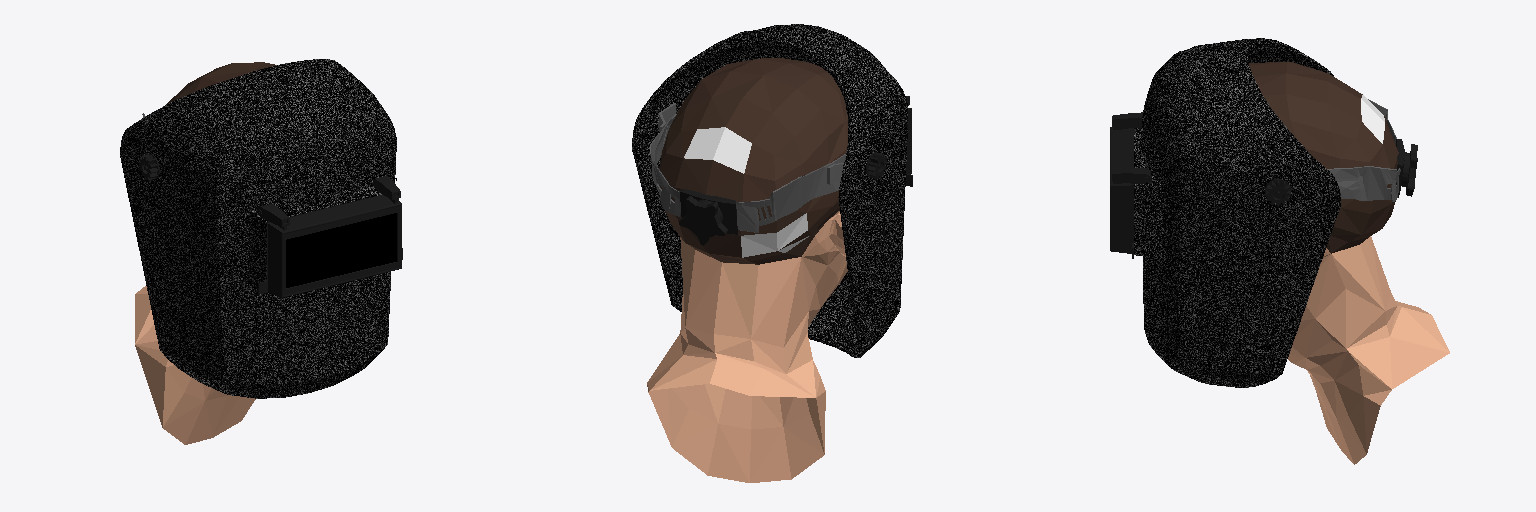
The picture shows the model from 3 angles: view 1: azimuth 30°, elevation 25°; view 2: azimuth 150°, elevation 25°; view 3: azimuth 270°, elevation 25°; orthographic projection.
Visible parts, largest first — view 1: Mesh23 Group27 Group1 Model, Mesh20 Group20 Group1 Model, Mesh1 Group2 Group1 Model; view 2: Mesh1 Group2 Group1 Model, Mesh23 Group27 Group1 Model, Mesh7 Group8 Group6 Group5 Group4 Group3 Group1 Model, Mesh4 Group11 Group9 Group8 Group6 Group5 Group4 Group3 Group1 M, Mesh3 Group10 Group9 Group8 Group6 Group5 Group4 Group3 Group1 M, Mesh6 Group13 Group8 Group6 Group5 Group4 Group3 Group1 Model; view 3: Mesh23 Group27 Group1 Model, Mesh1 Group2 Group1 Model, Mesh20 Group20 Group1 Model, Mesh7 Group8 Group6 Group5 Group4 Group3 Group1 Model, Mesh4 Group11 Group9 Group8 Group6 Group5 Group4 Group3 Group1 M, Mesh17 Group22 Group20 Group1 Model.
Part boxes in pixels (left/top/right/bottom): Mesh23 Group27 Group1 Model: left=120, top=59, right=396, bottom=398; Mesh20 Group20 Group1 Model: left=268, top=195, right=401, bottom=297; Mesh1 Group2 Group1 Model: left=135, top=62, right=275, bottom=444; Mesh1 Group2 Group1 Model: left=647, top=58, right=847, bottom=482; Mesh23 Group27 Group1 Model: left=632, top=24, right=907, bottom=357; Mesh7 Group8 Group6 Group5 Group4 Group3 Group1 Model: left=650, top=114, right=845, bottom=225; Mesh4 Group11 Group9 Group8 Group6 Group5 Group4 Group3 Group1 M: left=679, top=196, right=727, bottom=245; Mesh3 Group10 Group9 Group8 Group6 Group5 Group4 Group3 Group1 M: left=680, top=189, right=737, bottom=234; Mesh6 Group13 Group8 Group6 Group5 Group4 Group3 Group1 Model: left=670, top=187, right=758, bottom=232; Mesh23 Group27 Group1 Model: left=1134, top=38, right=1340, bottom=387; Mesh1 Group2 Group1 Model: left=1249, top=62, right=1449, bottom=464; Mesh20 Group20 Group1 Model: left=1110, top=127, right=1133, bottom=253; Mesh7 Group8 Group6 Group5 Group4 Group3 Group1 Model: left=1327, top=99, right=1397, bottom=200; Mesh4 Group11 Group9 Group8 Group6 Group5 Group4 Group3 Group1 M: left=1401, top=144, right=1417, bottom=196; Mesh17 Group22 Group20 Group1 Model: left=1112, top=168, right=1150, bottom=183.
Bounding box in the file's own units: 8.98 × 15.46 × 11.83.
11 materials, 1 textured.